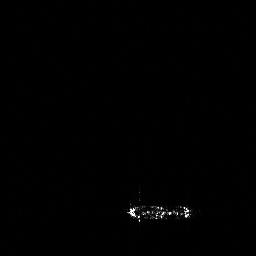ship: (122, 189, 200, 228)
